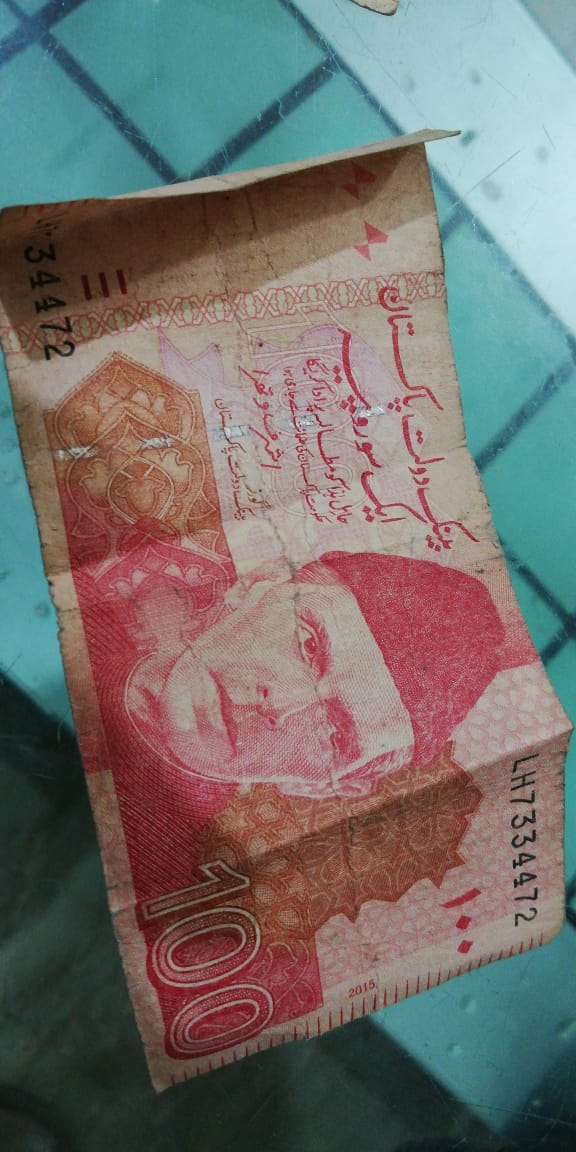100 rupee: (11, 118, 575, 1135)
